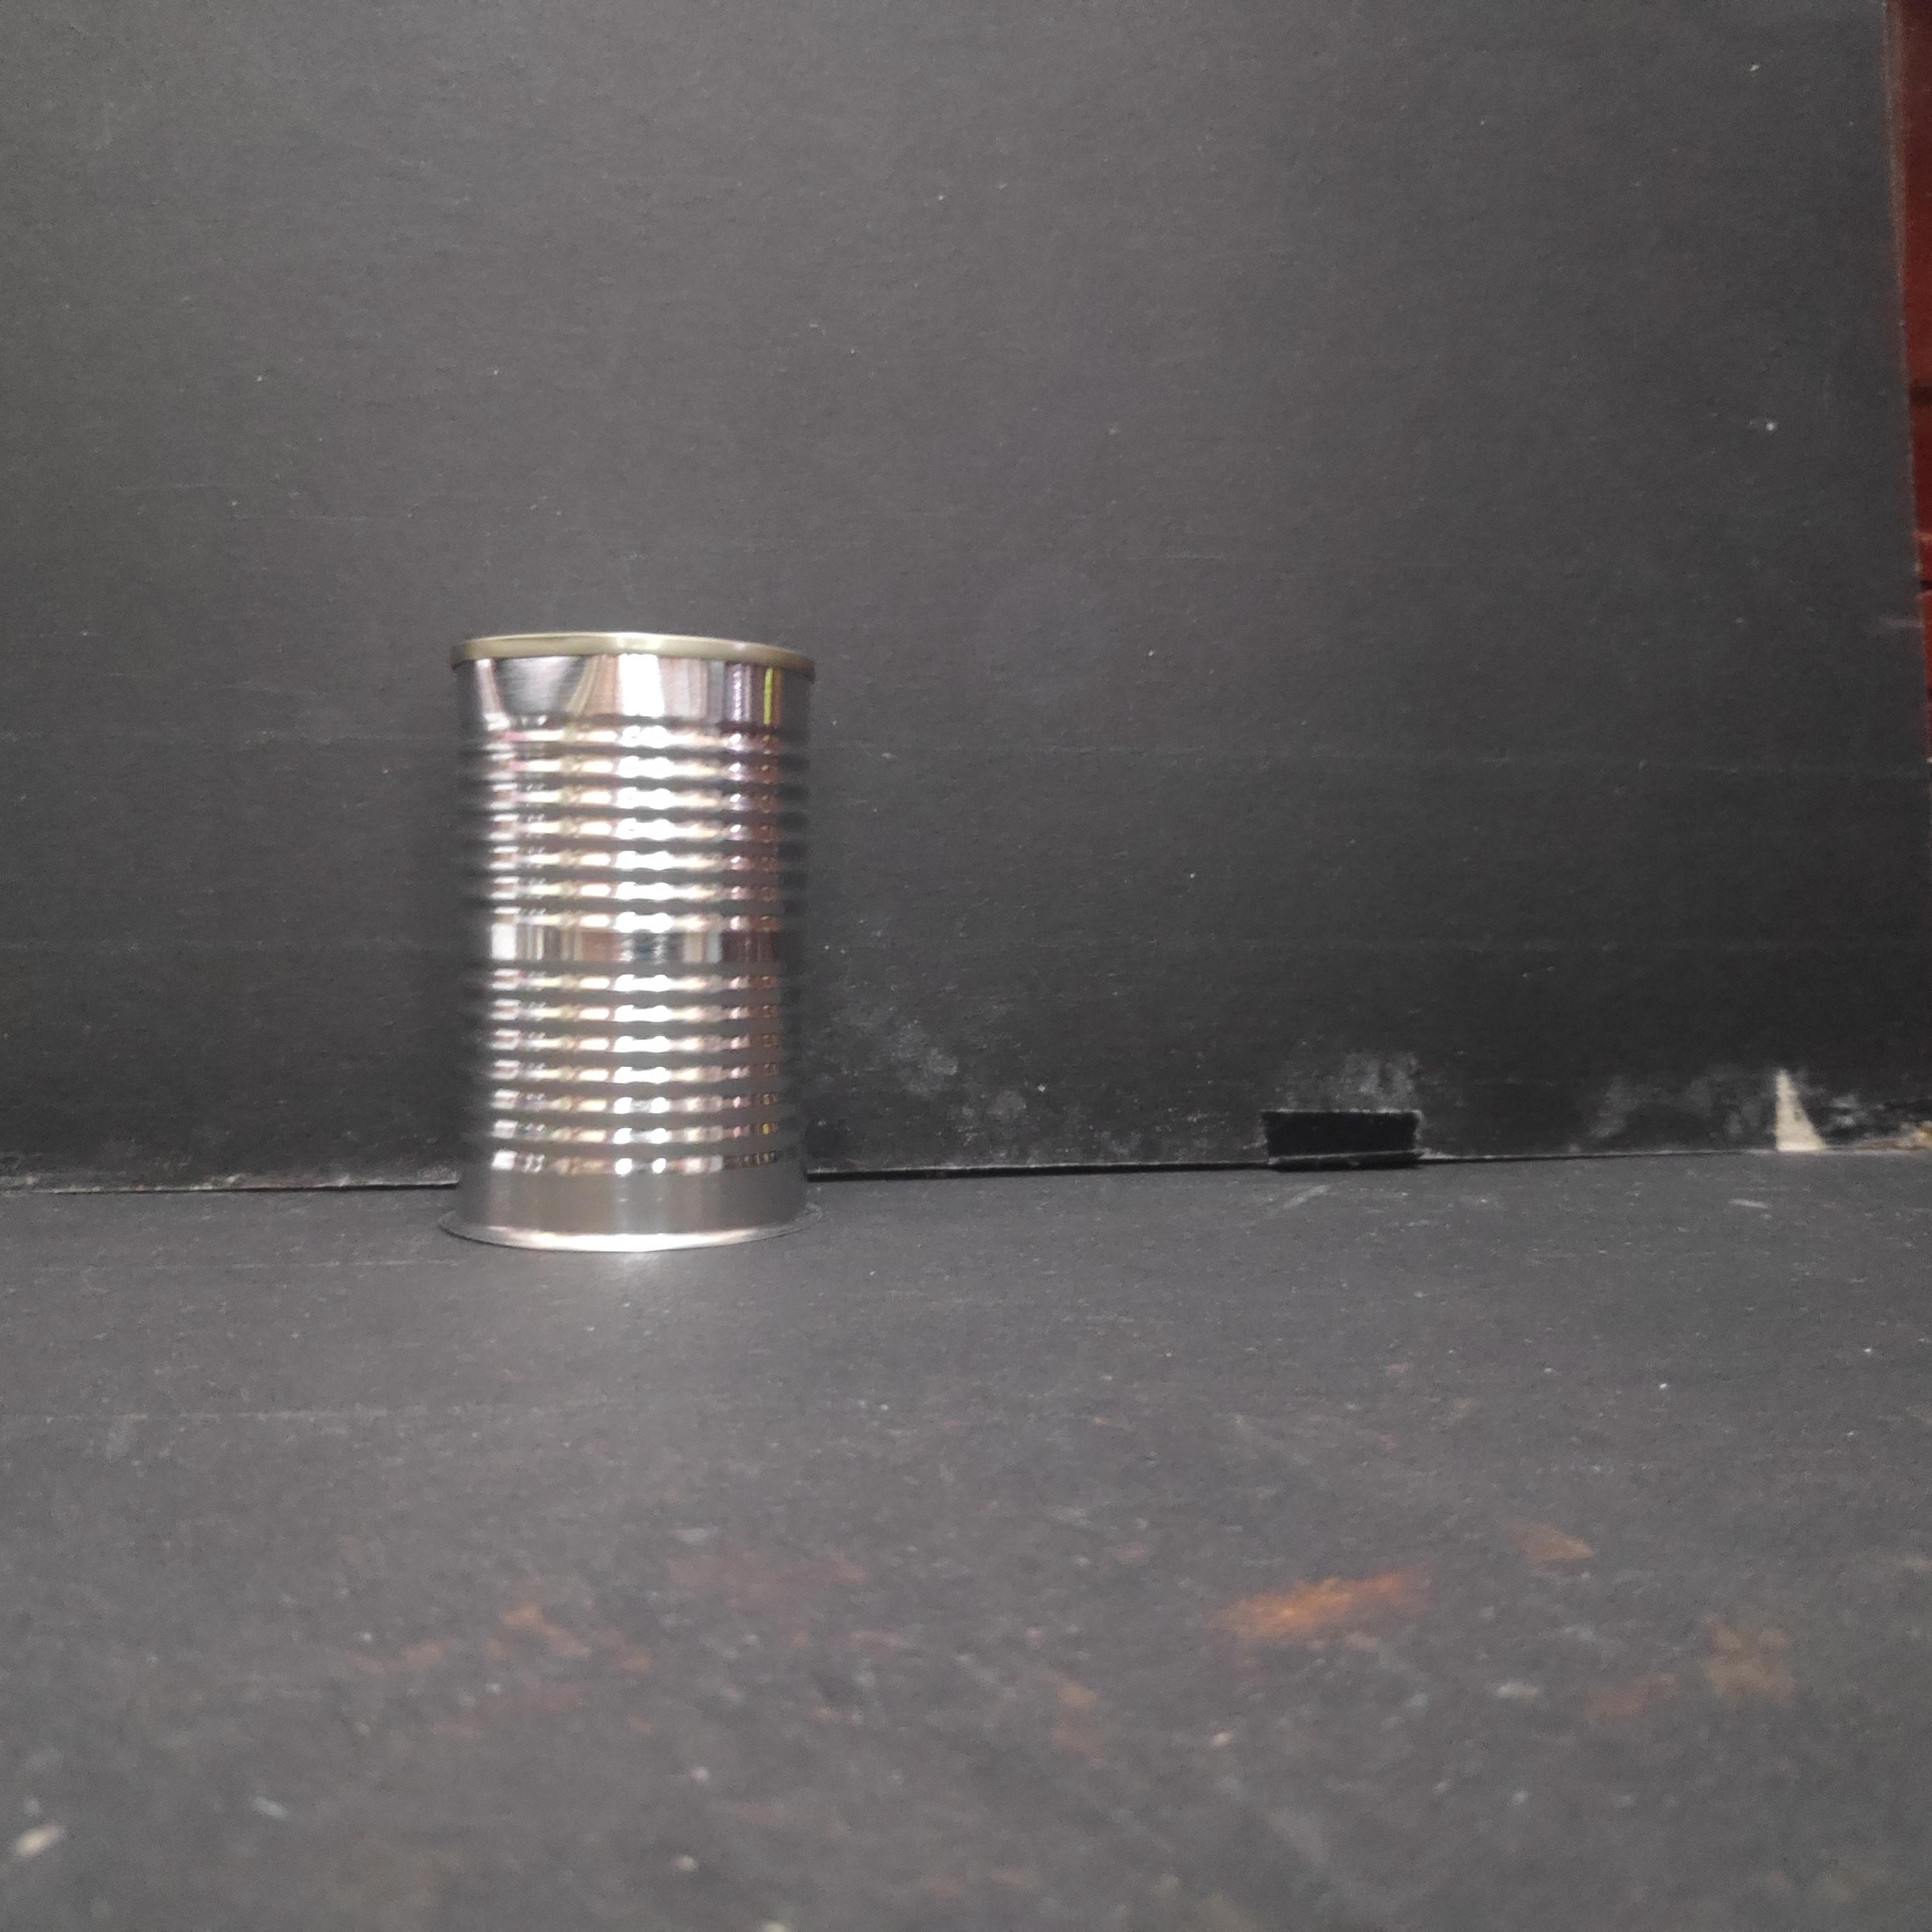Dented: (444, 598, 833, 1258)
